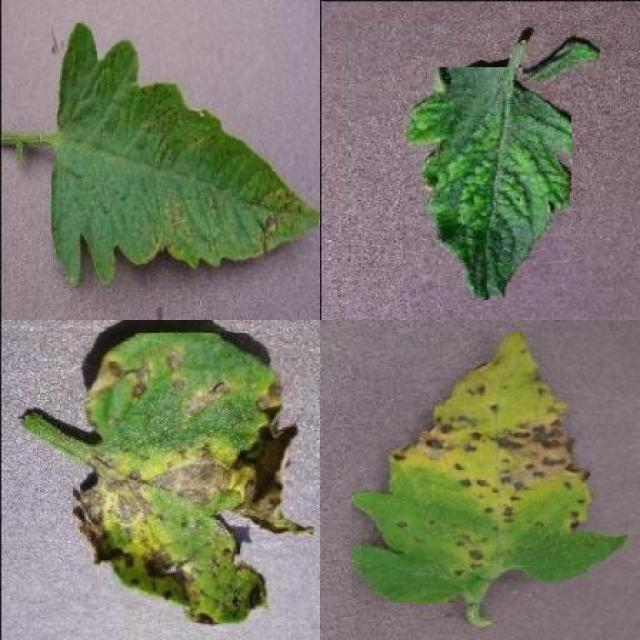Mosaic Virus: (403, 67, 571, 300), (524, 36, 604, 81)
Septoria: (352, 331, 629, 603), (52, 23, 318, 288), (74, 334, 314, 625)
